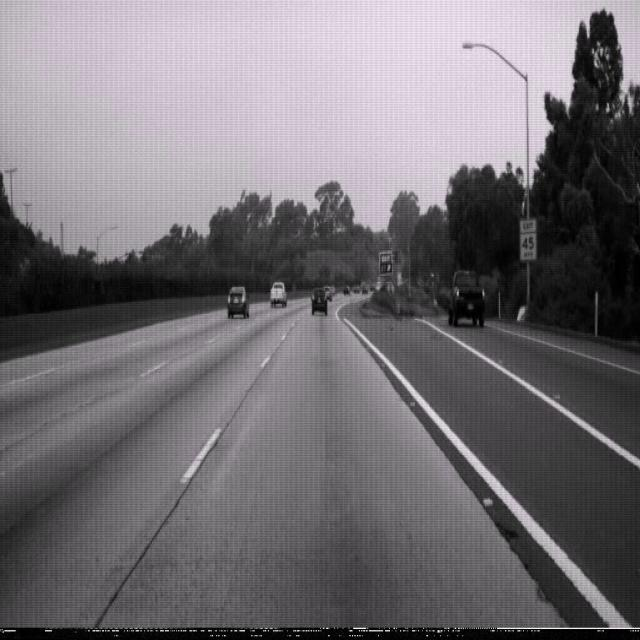speedLimit45: (519, 217, 537, 262)
